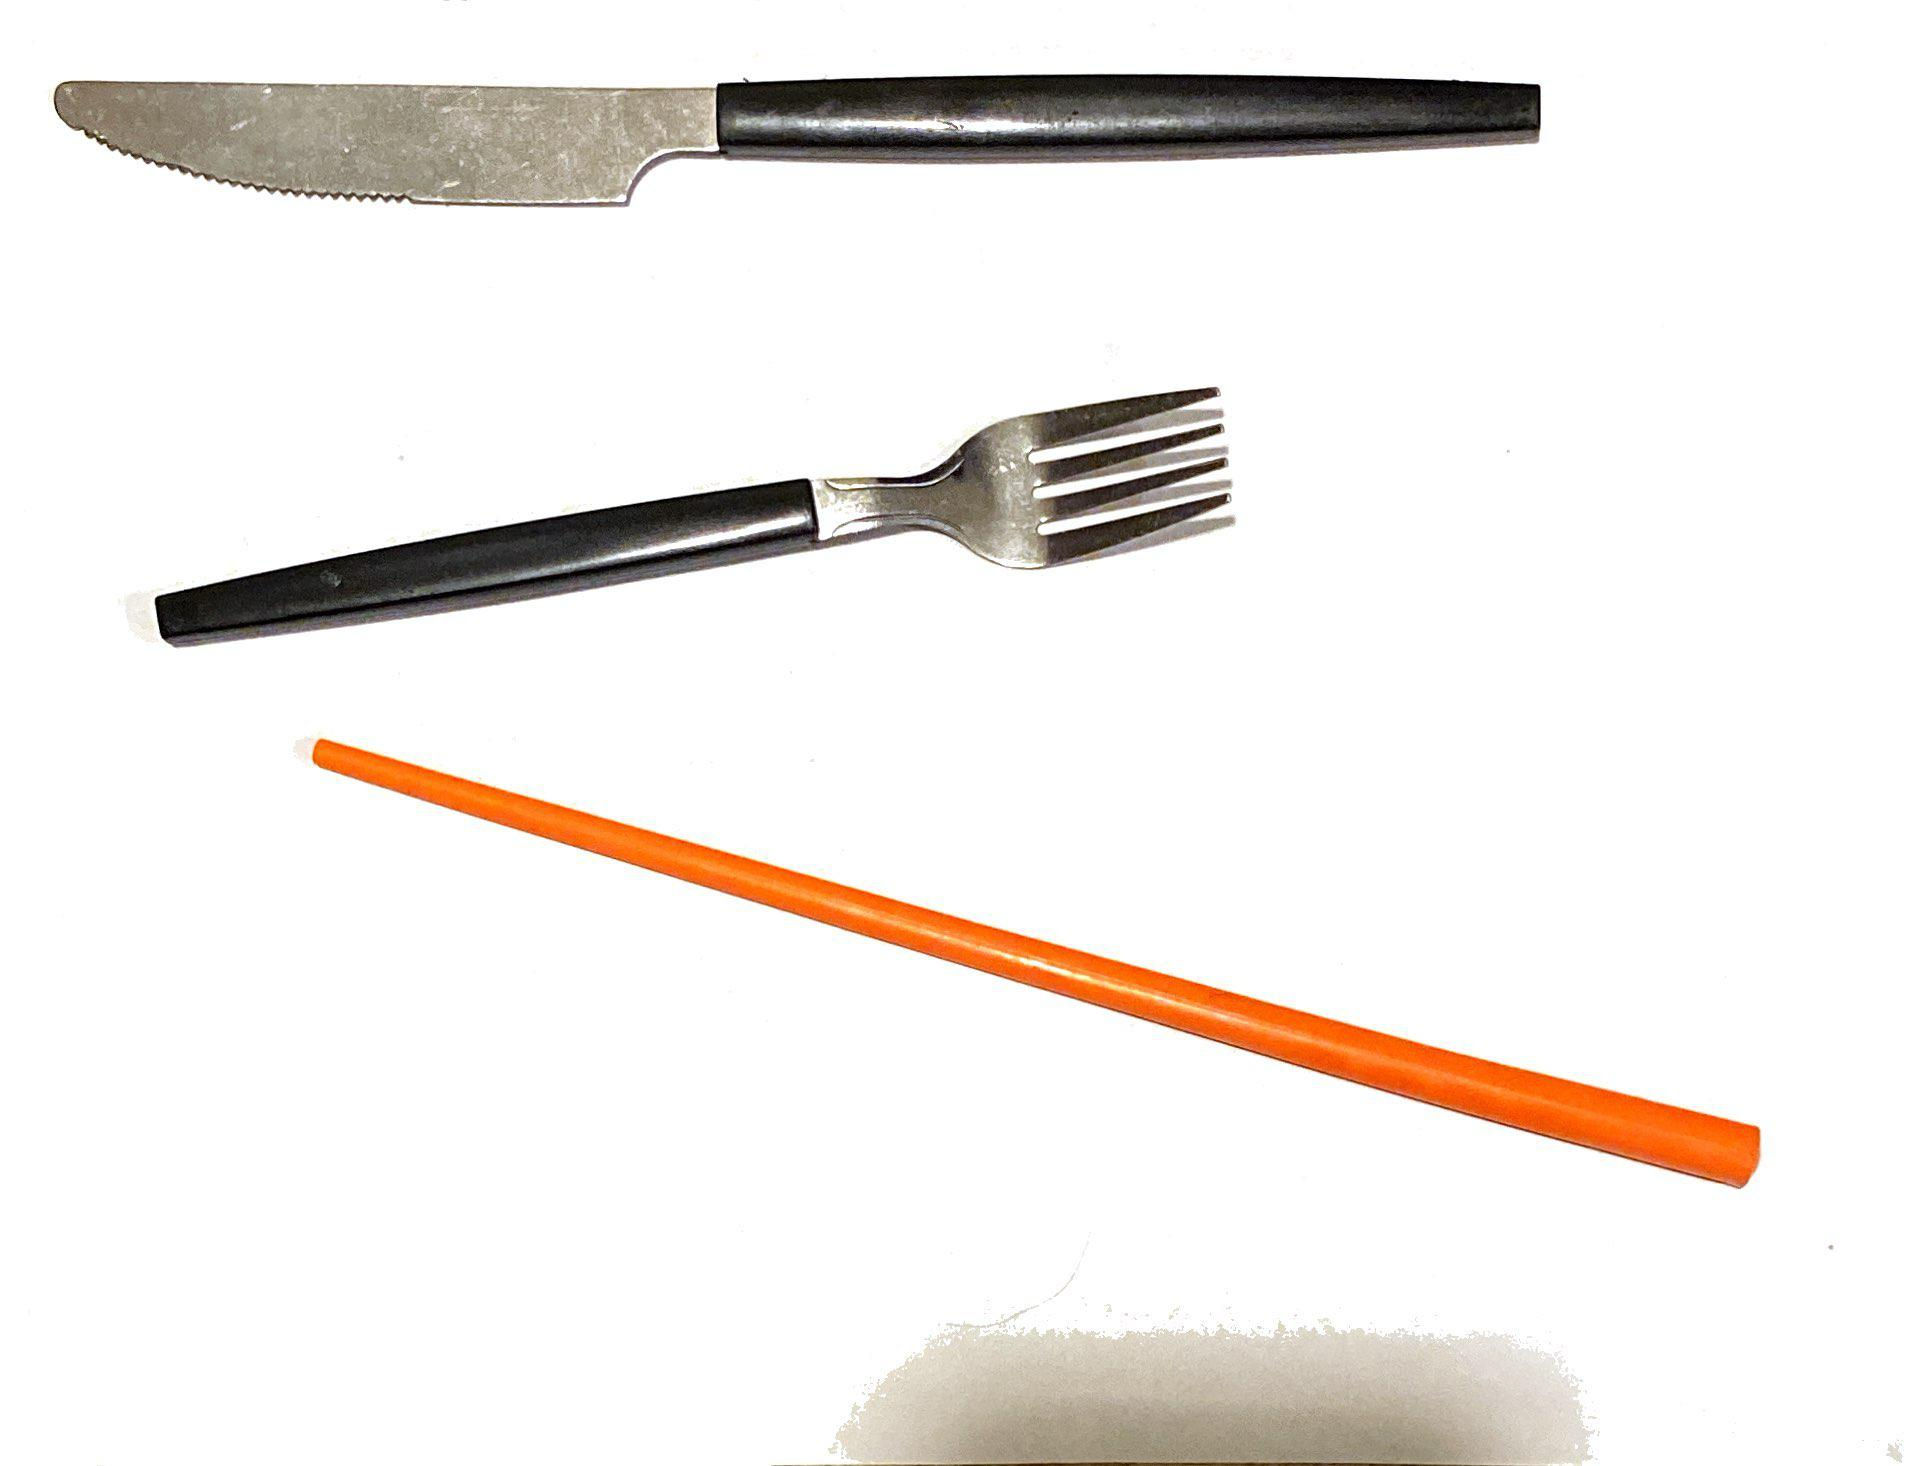Chopstick: (286, 705, 1780, 1287)
Fork: (125, 363, 1298, 699)
Knife: (26, 59, 1575, 253)
